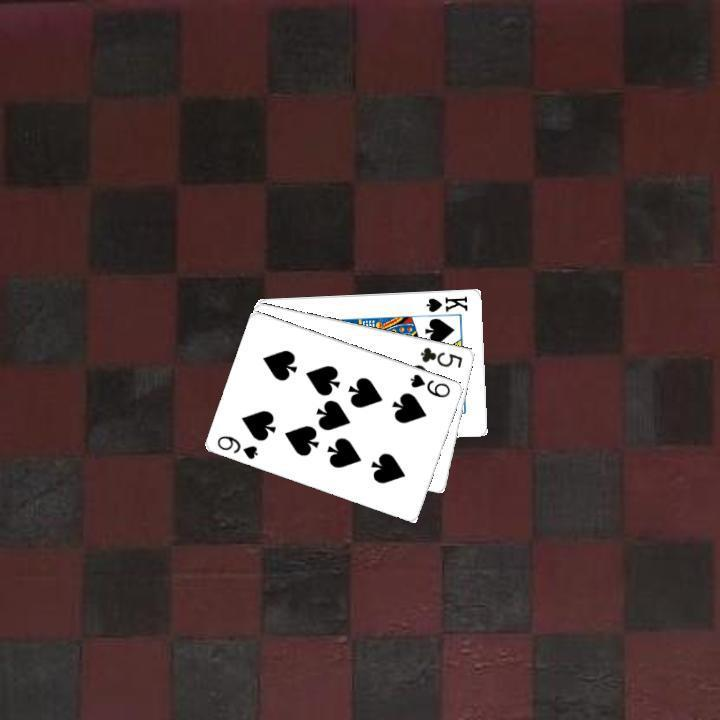5: (416, 343, 465, 369)
9: (406, 369, 453, 399), (213, 431, 260, 461)
K: (422, 291, 470, 313)
